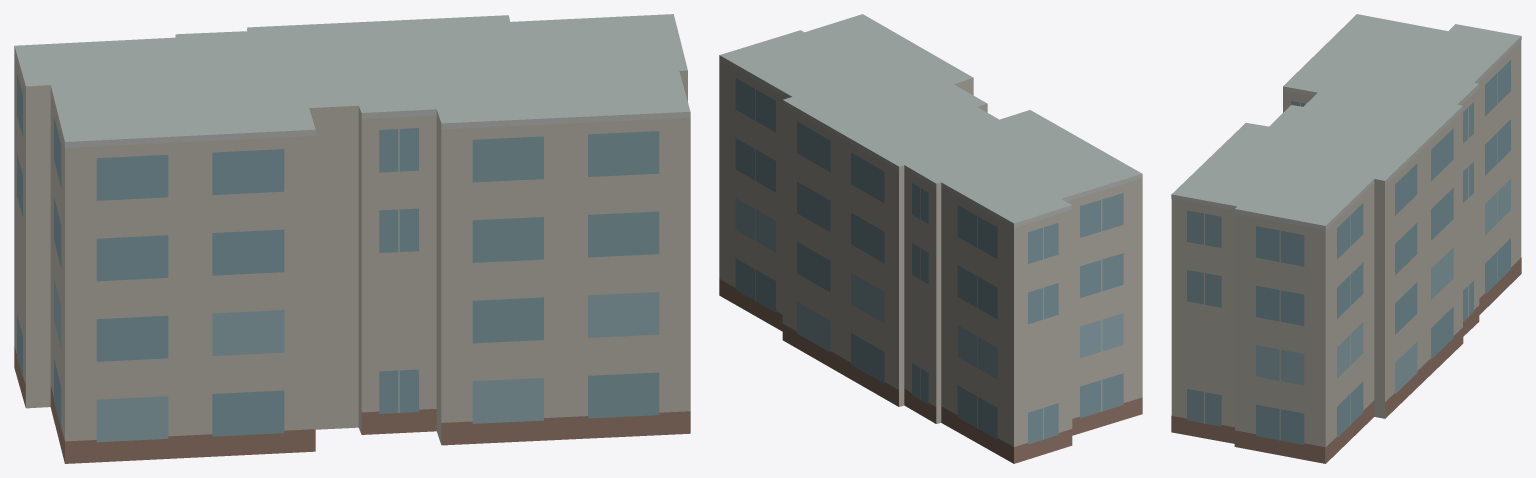
File: survey-upis-32674485.glb
3 views of the same model, side by side, from view 1: azimuth 30°, elevation 25°; view 2: azimuth 150°, elevation 25°; view 3: azimuth 270°, elevation 25° (orthographic). The views are drawn at different scales.
Parts seen in each view (by area): view 1: survey-upis-32674485.tmp; view 2: survey-upis-32674485.tmp; view 3: survey-upis-32674485.tmp.
Boxes of the visible parts, left/top/right/bottom form: survey-upis-32674485.tmp: left=14, top=14, right=690, bottom=463; survey-upis-32674485.tmp: left=719, top=14, right=1142, bottom=463; survey-upis-32674485.tmp: left=1171, top=14, right=1521, bottom=463.
Bounding box in the file's own units: 24.94 × 13.05 × 17.41.
